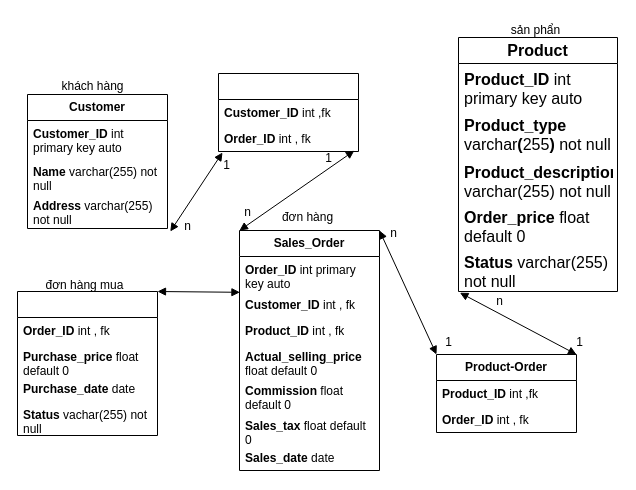
Image size: 636x490. Some labels were removed from this diagram. The shapes that lost their labels are listed below. From the top down, each one's box as (x1, y1, x2, y2) in pixels, then its label:
(218, 72, 358, 152): Customer-sales_order
(16, 290, 158, 436): Purchase_Order
